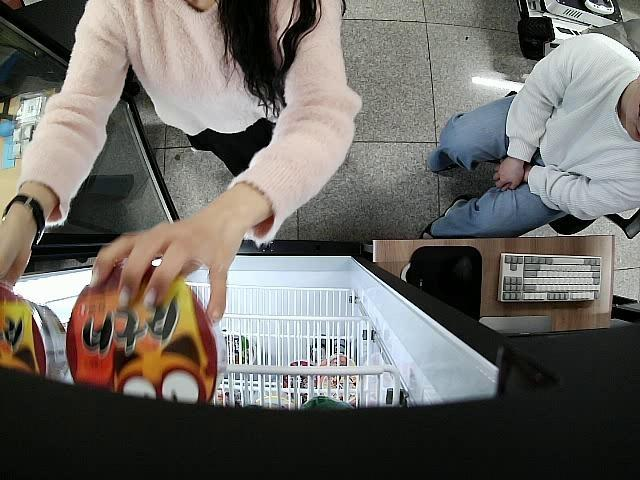05_nuguri_L: (67, 264, 226, 407), (0, 286, 67, 384)
